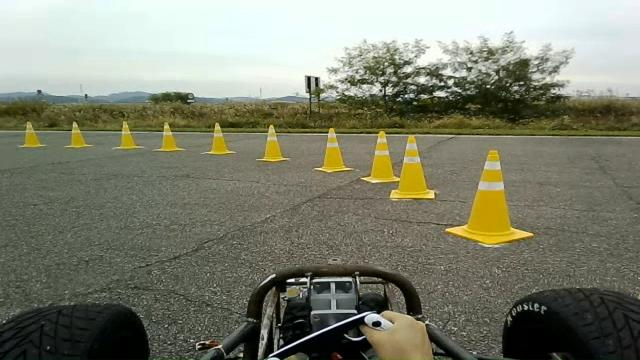yellow cone: (454, 144, 532, 248), (389, 134, 436, 200), (360, 130, 400, 183), (314, 127, 354, 172), (255, 124, 291, 162), (201, 122, 236, 155), (152, 121, 186, 152), (111, 120, 144, 149), (64, 120, 93, 148), (17, 121, 46, 148)
